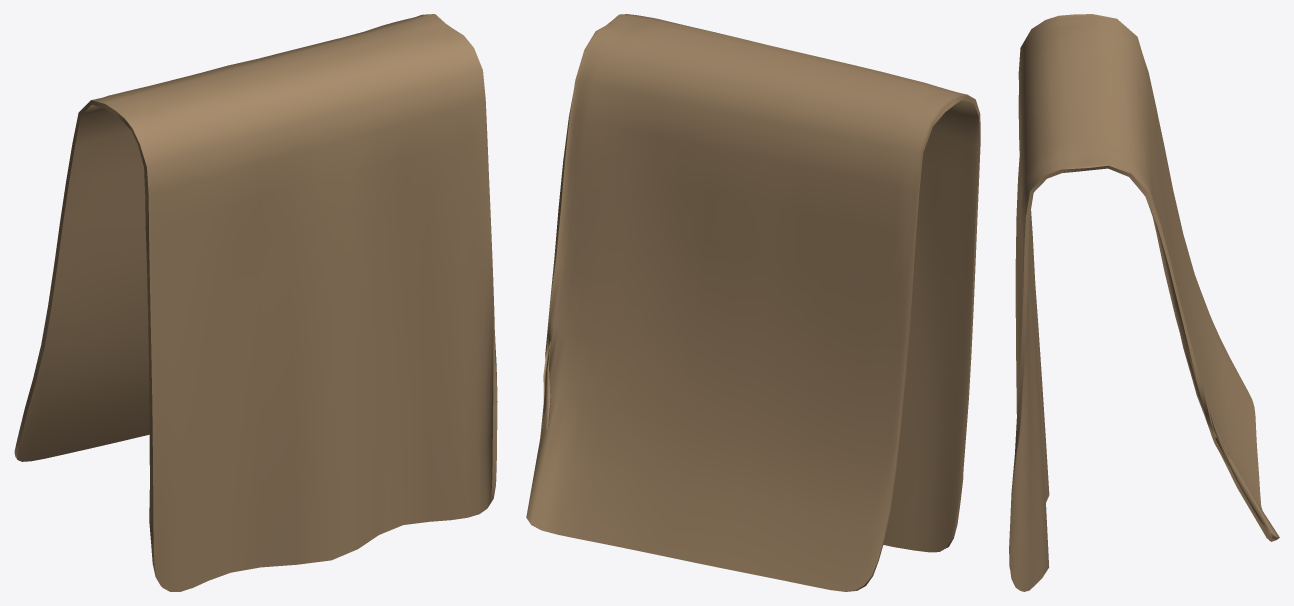
Rendered from HangingTowel.fbx.
3 renders of one model, left to right at view 1: azimuth 30°, elevation 25°; view 2: azimuth 150°, elevation 25°; view 3: azimuth 270°, elevation 25°, orthographic. The views are drawn at different scales.
Parts seen in each view (by area): view 1: Hanging Towel; view 2: Hanging Towel; view 3: Hanging Towel.
Boxes of the visible parts, box(x1,y1,x2,y2) form: Hanging Towel: box(14, 14, 497, 591); Hanging Towel: box(526, 14, 980, 591); Hanging Towel: box(1009, 14, 1279, 591).
Bounding box in the file's own units: 45.26 × 56.92 × 31.78.
